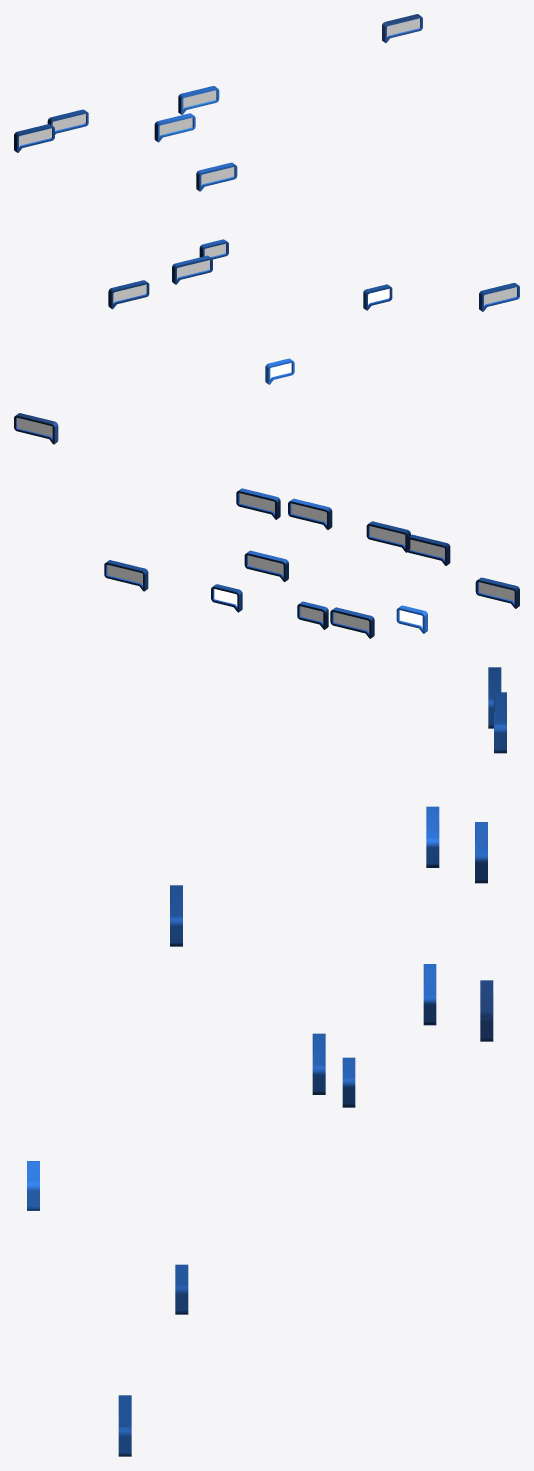
File: pop_up_stereoscopy.glb
3 views of the same model, one above another, from view 1: azimuth 30°, elevation 25°; view 2: azimuth 150°, elevation 25°; view 3: azimuth 270°, elevation 25° (orthographic). The views are drawn at different scales.
Parts seen in each view (by area): view 1: pop_up_social_networks, pop_up_games, pop_up_travel, pop_up_development, pop_up_contact_me, pop_up_languages, pop_up_photography_right, pop_up_art, pop_up_photography_left, pop_up_running, pop_up_share_knowledge, pop_up_stereoscopy; view 2: pop_up_contact_me, pop_up_languages, pop_up_travel, pop_up_photography_right, pop_up_social_networks, pop_up_development, pop_up_games, pop_up_photography_left, pop_up_art, pop_up_share_knowledge, pop_up_stereoscopy, pop_up_running; view 3: no part large enough to name.
Part boxes in pixels (bbox=[...]): pop_up_social_networks: bbox=[154, 113, 195, 142]; pop_up_games: bbox=[108, 280, 149, 309]; pop_up_travel: bbox=[178, 86, 219, 114]; pop_up_development: bbox=[196, 162, 237, 191]; pop_up_contact_me: bbox=[172, 255, 212, 284]; pop_up_languages: bbox=[382, 14, 422, 42]; pop_up_photography_right: bbox=[479, 283, 519, 311]; pop_up_art: bbox=[14, 124, 54, 152]; pop_up_photography_left: bbox=[47, 109, 88, 134]; pop_up_running: bbox=[265, 358, 294, 384]; pop_up_share_knowledge: bbox=[363, 284, 392, 310]; pop_up_stereoscopy: bbox=[199, 239, 228, 259]; pop_up_contact_me: bbox=[330, 607, 374, 638]; pop_up_languages: bbox=[14, 413, 58, 444]; pop_up_travel: bbox=[236, 488, 280, 519]; pop_up_photography_right: bbox=[104, 560, 148, 591]; pop_up_social_networks: bbox=[288, 498, 332, 529]; pop_up_development: bbox=[244, 550, 288, 581]; pop_up_games: bbox=[475, 577, 519, 608]; pop_up_photography_left: bbox=[366, 521, 410, 552]; pop_up_art: bbox=[408, 534, 450, 565]; pop_up_share_knowledge: bbox=[211, 584, 242, 612]; pop_up_stereoscopy: bbox=[297, 601, 328, 629]; pop_up_running: bbox=[396, 605, 427, 633].
Size of the model in its own units: 35.1 by 18.2 by 17.78.
12 materials, 12 textured.
